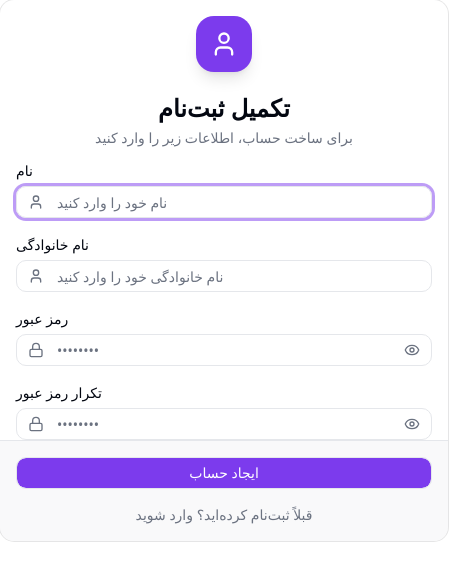
Test: CompleteRegistrationForm › shows error when passwords do not match
The width and height of the screenshot is (466, 583).
Type "علی" into the field labelled "نام". click: (224, 202)
box: [16,186,432,218]
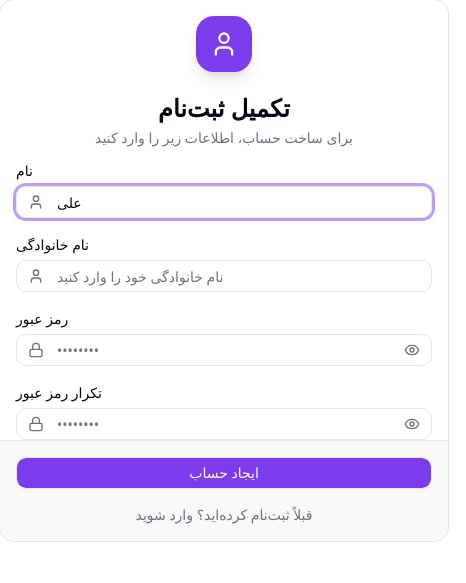
Type "رضایی" into the field labelled "نام خانوادگی". click: (224, 276)
box: [16,260,432,292]
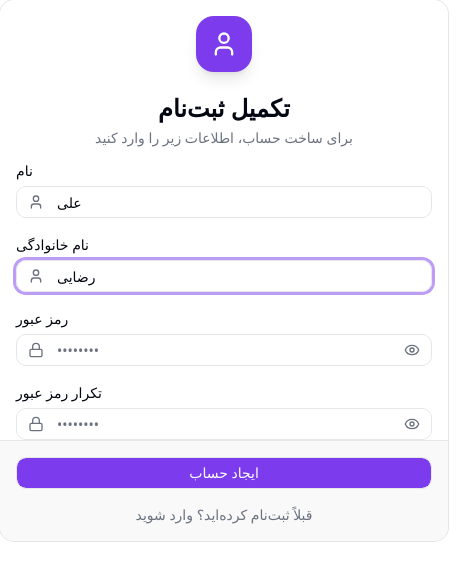
Type "StrongPass123!" into the password field labelled "رمز عبور". click: (224, 350)
box: [16,334,432,366]
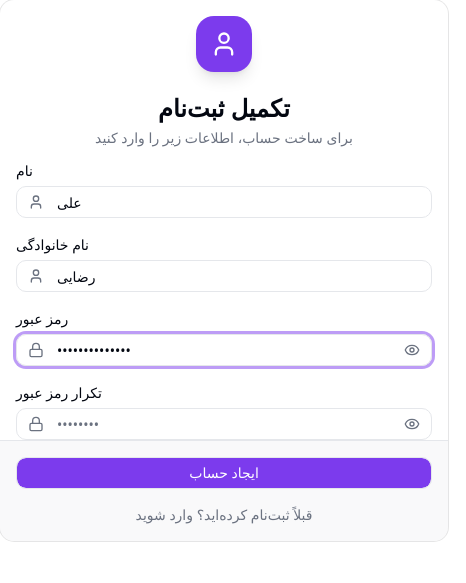
Type "DifferentPass123!" into the password field labelled "تکرار رمز عبور". click: (224, 424)
box: [16,408,432,440]
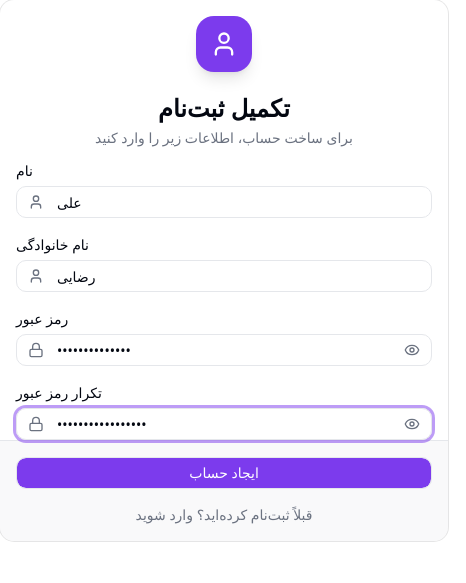
Click the button "ایجاد حساب". click: (224, 473)
box: [16,457,432,489]
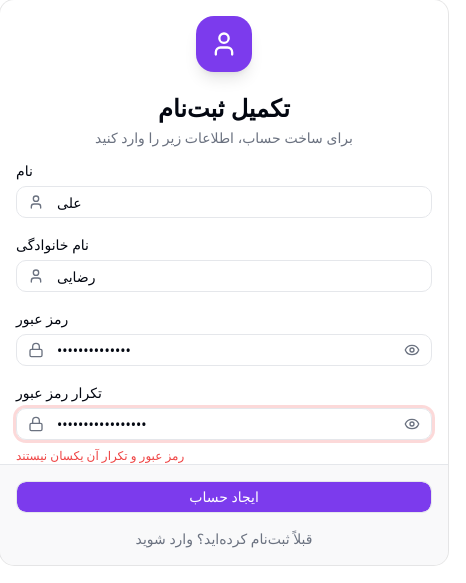
Expected: the text "رمز عبور و تکرار آن یکسان نیستند" is shown, [16,447,184,464]
